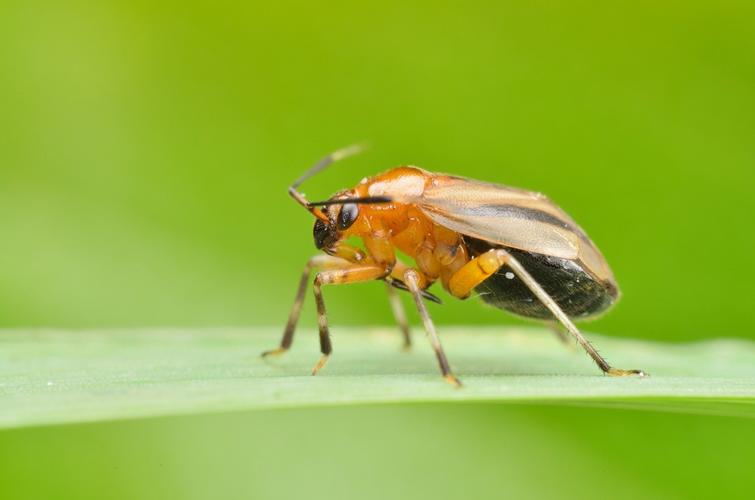Curculionidae: (256, 142, 652, 391)
